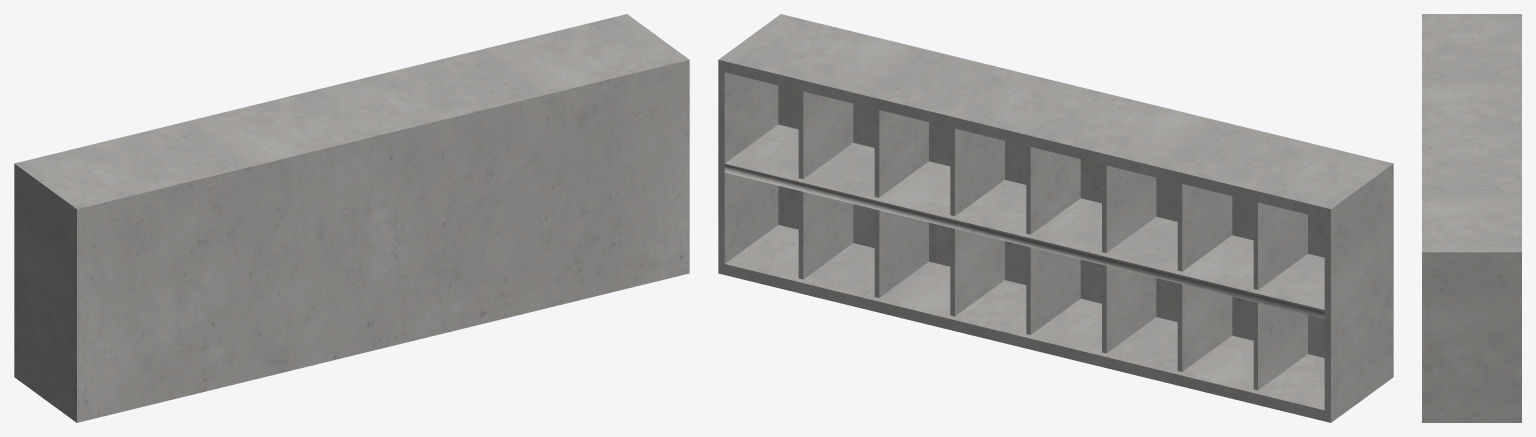
File: Prop_Jsgz01.glb
The picture shows the model from 3 angles, left to right: view 1: azimuth 30°, elevation 25°; view 2: azimuth 150°, elevation 25°; view 3: azimuth 270°, elevation 25°; orthographic projection. The views are drawn at different scales.
Visible parts, largest first — view 1: xiutz_jsgz_01; view 2: xiutz_jsgz_01; view 3: xiutz_jsgz_01.
Boxes of the visible parts, x1,y1,x2,y2 form: xiutz_jsgz_01: [14, 14, 689, 422]; xiutz_jsgz_01: [718, 14, 1393, 422]; xiutz_jsgz_01: [1422, 14, 1521, 422].
Size of the model in its own units: 7.66 by 2.55 by 1.35.
Materials: 1 (1 with a texture image).
